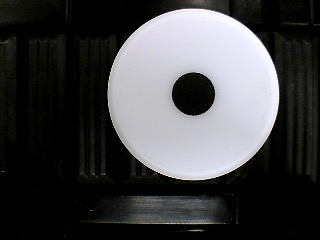BOHO: (107, 8, 279, 181)
